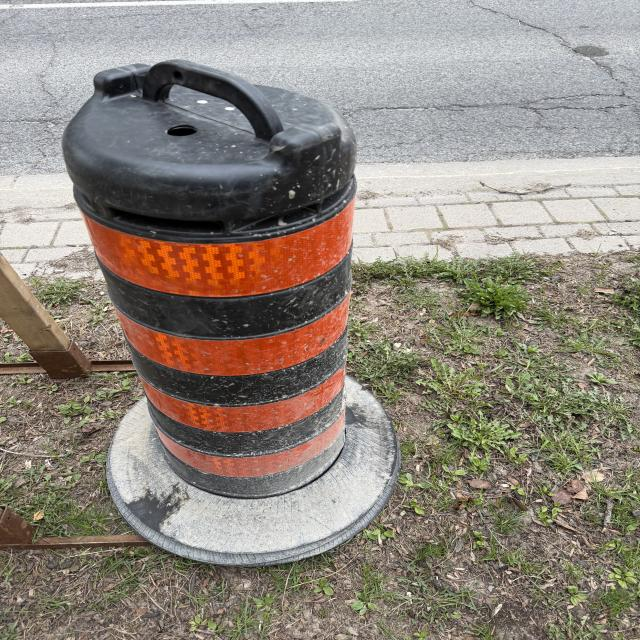Teraffic Barrel: (63, 61, 398, 564)
